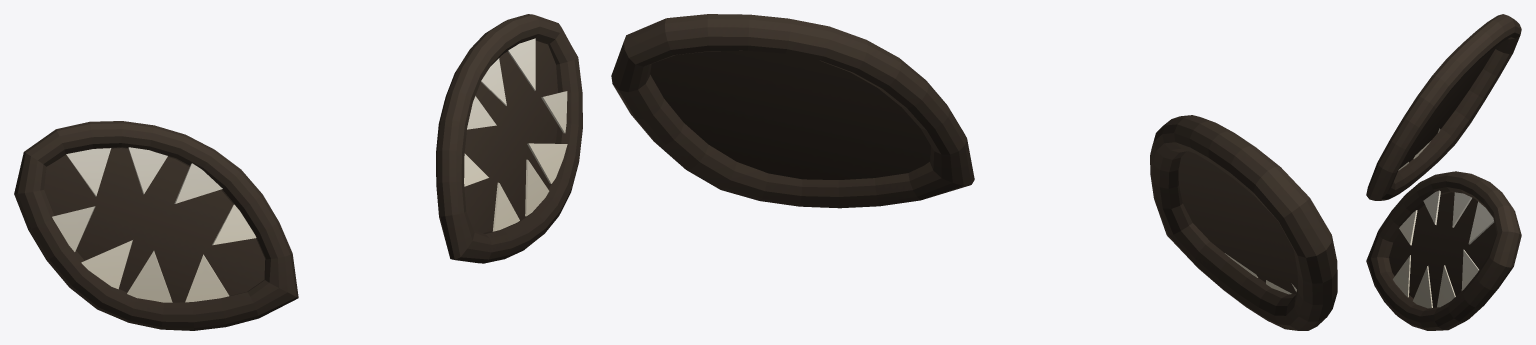
The model's file is devil_eye2.fbx.
The picture shows the model from 3 angles, left to right: view 1: azimuth 30°, elevation 25°; view 2: azimuth 150°, elevation 25°; view 3: azimuth 270°, elevation 25°; orthographic projection. The views are drawn at different scales.
Parts seen in each view (by area): view 1: eyecircle2_1; view 2: eyecircle2_1; view 3: eyecircle2_1.
Boxes of the visible parts, left/top/right/bottom form: eyecircle2_1: left=14, top=14, right=582, bottom=330; eyecircle2_1: left=611, top=14, right=1337, bottom=330; eyecircle2_1: left=1366, top=14, right=1521, bottom=330.
Bounding box in the file's own units: 1.58 × 0.4814 × 0.462.
